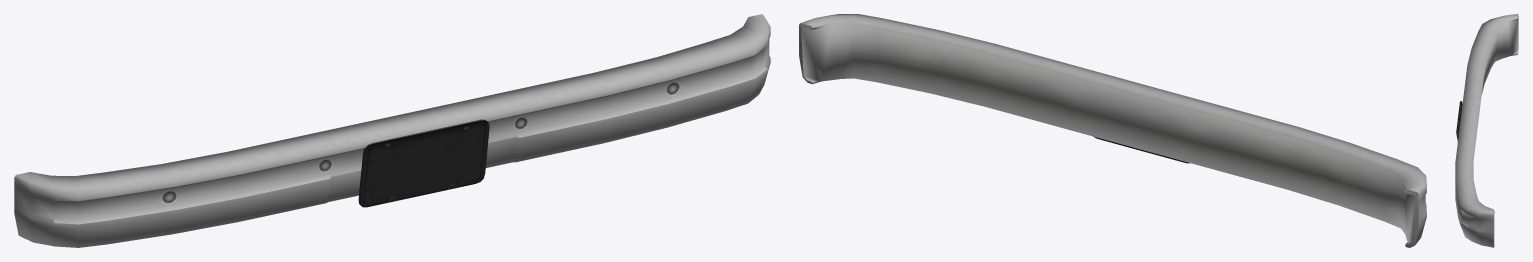
File: shvan92_bumper_rear_ucb_bottom_0.001_lev3.glb
3 renders of one model, left to right at view 1: azimuth 30°, elevation 25°; view 2: azimuth 150°, elevation 25°; view 3: azimuth 270°, elevation 25°, orthographic. The views are drawn at different scales.
Visible parts, largest first — view 1: shvan92_bumper_rear_ucb_bottom_0.001_lev3; view 2: shvan92_bumper_rear_ucb_bottom_0.001_lev3; view 3: shvan92_bumper_rear_ucb_bottom_0.001_lev3.
Boxes of the visible parts, <box> form: shvan92_bumper_rear_ucb_bottom_0.001_lev3: <box>14,14,770,247</box>; shvan92_bumper_rear_ucb_bottom_0.001_lev3: <box>799,14,1426,247</box>; shvan92_bumper_rear_ucb_bottom_0.001_lev3: <box>1455,14,1518,247</box>.
Size of the model in its own units: 1.84 by 0.179 by 0.2456.
Materials: 1 (1 with a texture image).
